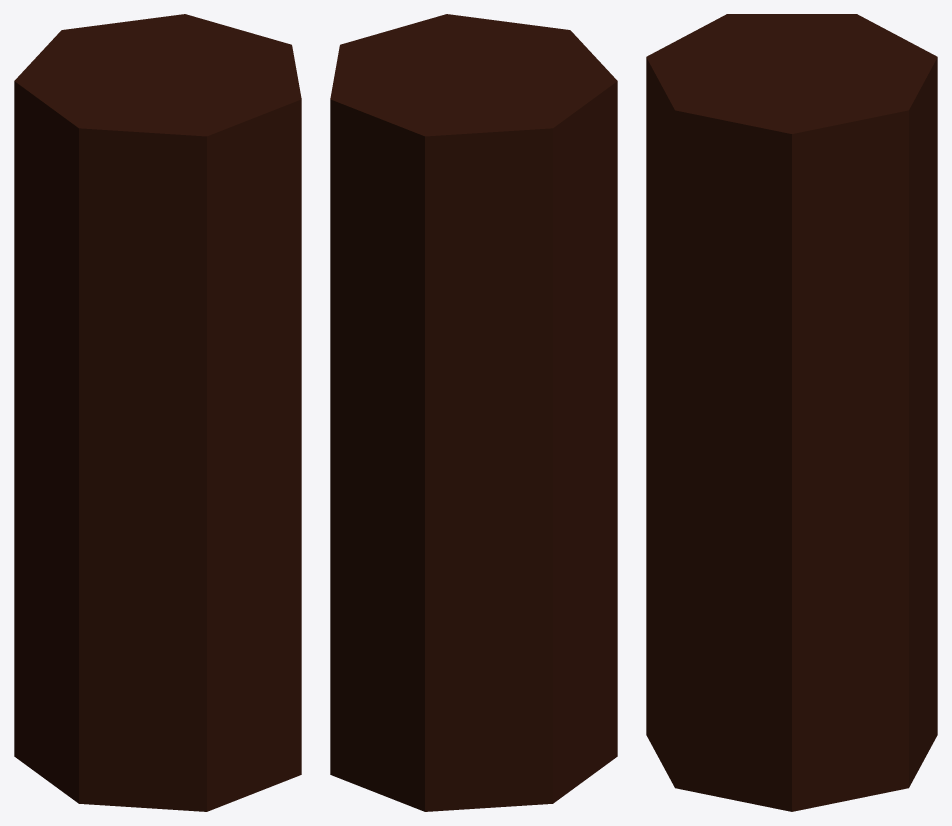
File: evergreenlog_01.FBX
The picture shows the model from 3 angles, left to right: view 1: azimuth 30°, elevation 25°; view 2: azimuth 150°, elevation 25°; view 3: azimuth 270°, elevation 25°; orthographic projection.
Visible parts, largest first — view 1: Cylinder001; view 2: Cylinder001; view 3: Cylinder001.
Part boxes in pixels (left/top/right/bottom): Cylinder001: left=14, top=14, right=301, bottom=811; Cylinder001: left=330, top=14, right=617, bottom=811; Cylinder001: left=646, top=14, right=937, bottom=811.
Size of the model in its own units: 9.5 by 25 by 9.75.
